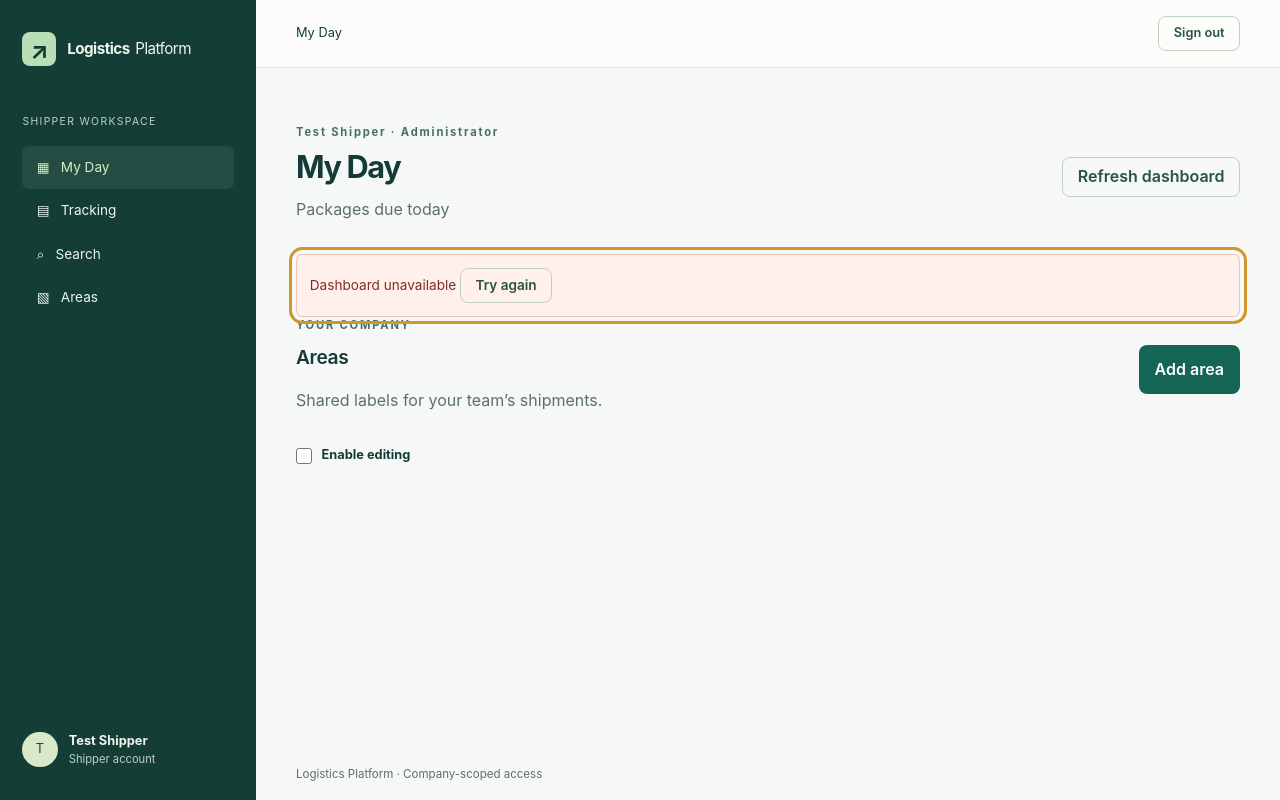
Test case: recovers from an unavailable or malformed report without inventing zero totals
Check: the message shows "Dashboard unavailable", box [310,277,456,293]
Click the button "Try again" at {"x": 506, "y": 286}, box [460,268,552,303]
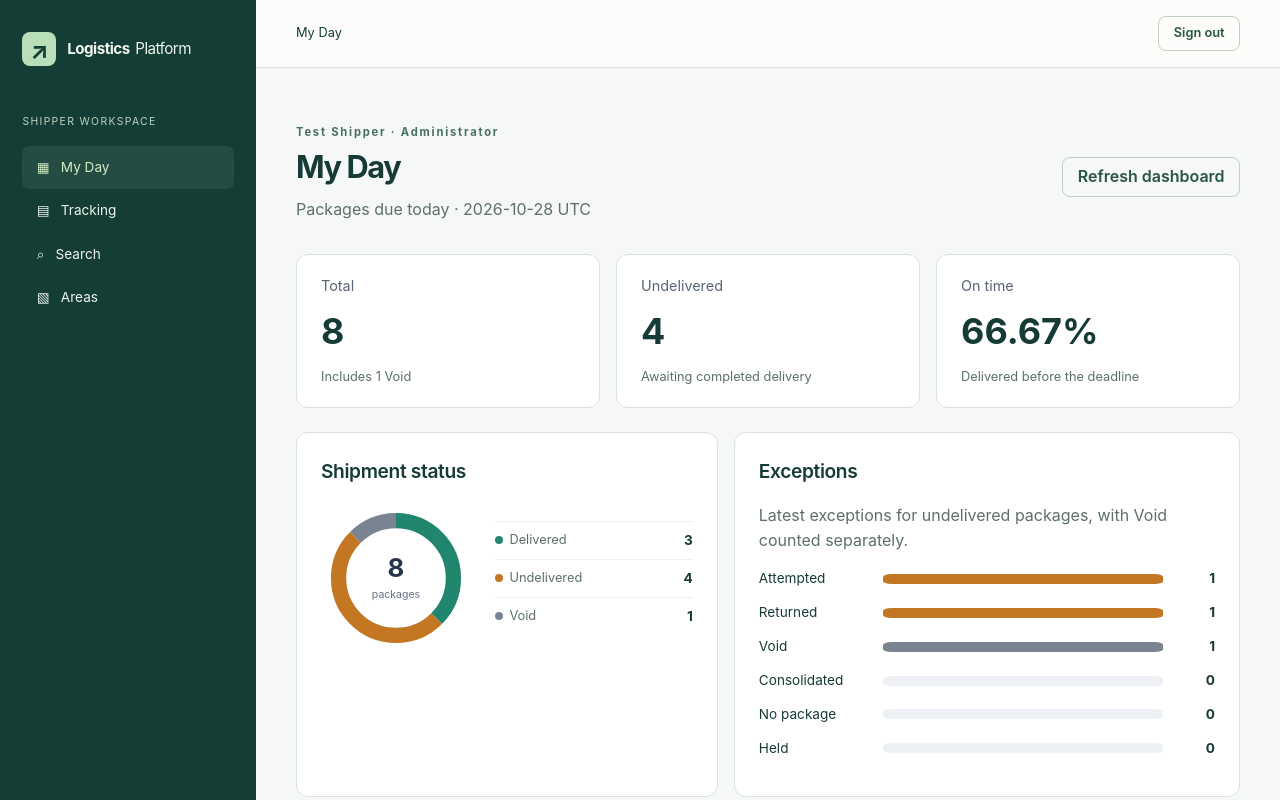
Check: the picture named "Today's shipment status" is shown, box [321,503,471,653]
Click the button "Refresh dashboard" at {"x": 1151, "y": 177}, box [1062,157,1240,196]
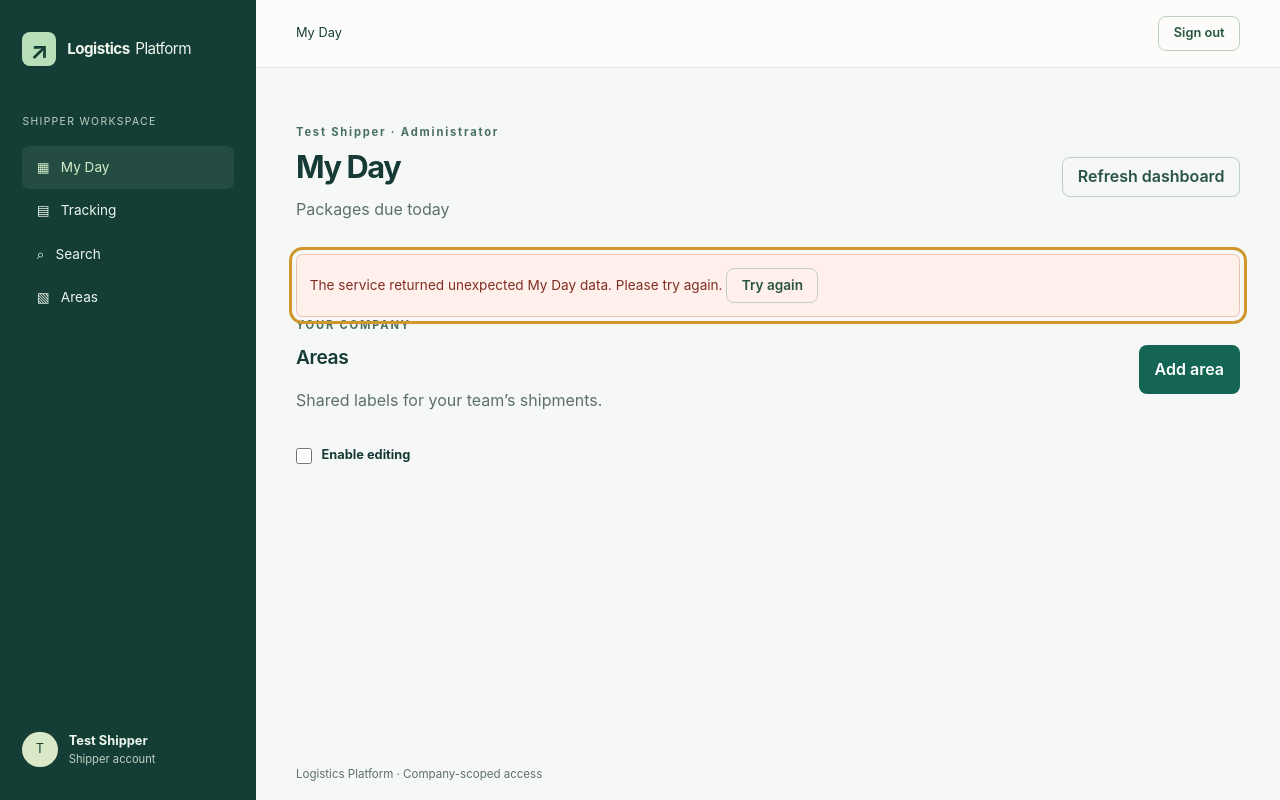
Check: the message shows "unexpected My Day data", box [310,277,722,293]
